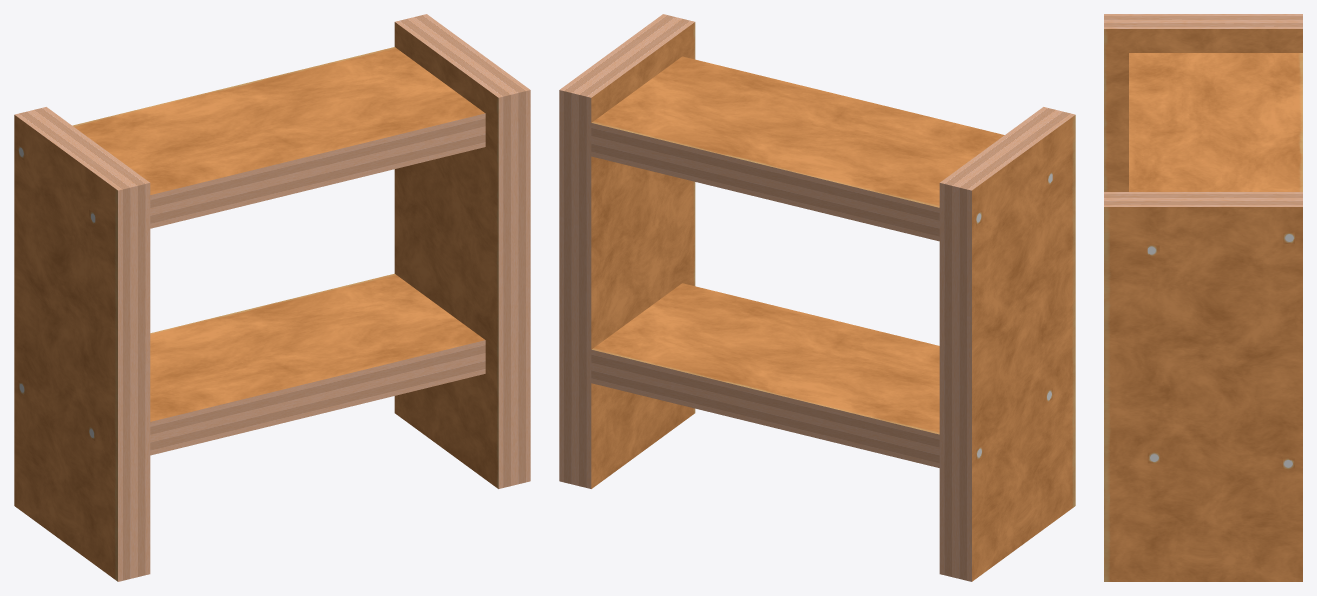
Rendered from Shelf_4.fbx.
The picture shows the model from 3 angles, left to right: view 1: azimuth 30°, elevation 25°; view 2: azimuth 150°, elevation 25°; view 3: azimuth 270°, elevation 25°; orthographic projection. The views are drawn at different scales.
Visible parts, largest first — view 1: Shelf_4; view 2: Shelf_4; view 3: Shelf_4.
Part boxes in pixels (bbox=[...]): Shelf_4: bbox=[14, 14, 530, 581]; Shelf_4: bbox=[559, 14, 1075, 581]; Shelf_4: bbox=[1104, 14, 1302, 581].
Bounding box in the file's own units: 1.04 × 0.9401 × 0.452.
